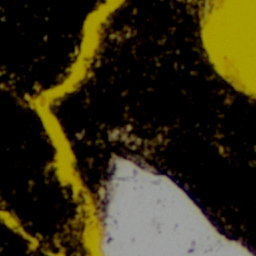air_pores: (199, 0, 255, 99)
cement_matrix: (54, 0, 255, 255), (0, 0, 102, 255), (111, 130, 134, 144), (27, 236, 39, 248)
cracks: (26, 0, 125, 255), (0, 207, 22, 231), (52, 250, 70, 255)
gravel_crushed_stones: (100, 161, 252, 255), (112, 131, 133, 143), (28, 237, 38, 247)
